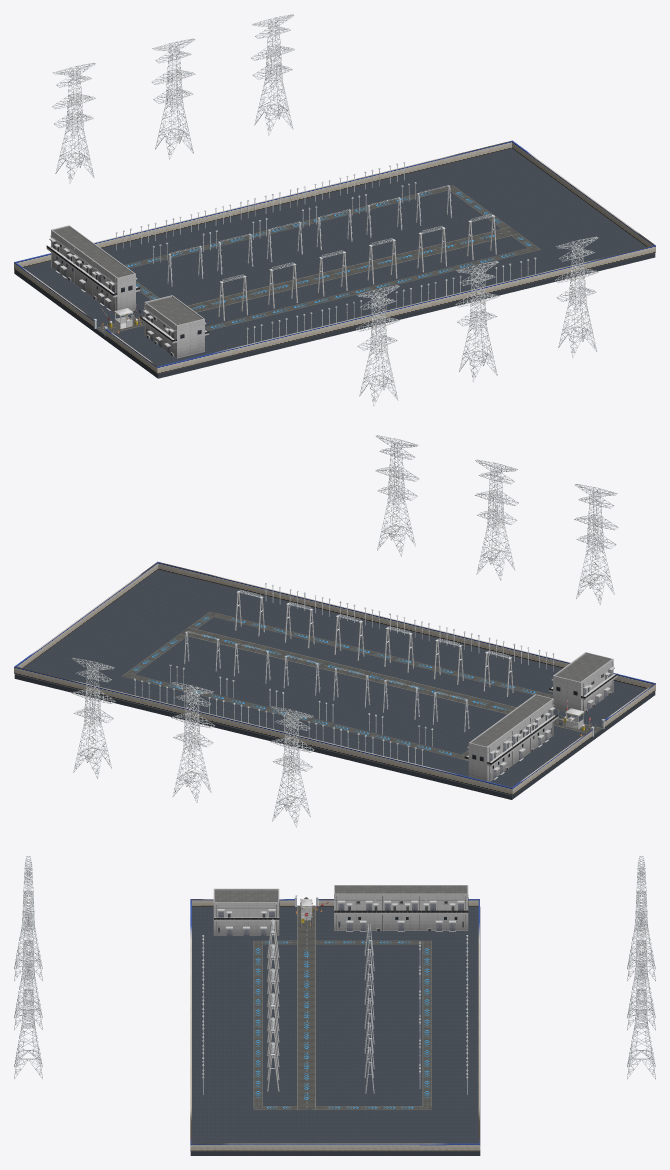
3 views of the same model, one above another, from view 1: azimuth 30°, elevation 25°; view 2: azimuth 150°, elevation 25°; view 3: azimuth 270°, elevation 25° (orthographic).
Parts seen in each view (by area): view 1: 地基围墙, 配电室, 主控室, Obj3d66-1145095-17092-371.002, Obj3d66-1145095-17092-371.001, Obj3d66-1145095-17092-371.004, Obj3d66-1145095-17092-371.005, Obj3d66-1145095-17092-371.003, Obj3d66-1145095-17092-371; view 2: 地基围墙, 配电室, 主控室, Obj3d66-1145095-17092-371.002, Obj3d66-1145095-17092-371.001, Obj3d66-1145095-17092-371.003, Obj3d66-1145095-17092-371.004, Obj3d66-1145095-17092-371, Obj3d66-1145095-17092-371.005; view 3: 地基围墙, 配电室, 主控室, Obj3d66-1145095-17092-371.005, Obj3d66-1145095-17092-371.004, Obj3d66-1145095-17092-371.002, Obj3d66-1145095-17092-371, Obj3d66-1145095-17092-371.003, Obj3d66-1145095-17092-371.001, 3#道路箭头.
Boxes of the visible parts, box(x1,y1,x2,y2) form: 地基围墙: box(14, 140, 655, 378); 配电室: box(46, 225, 139, 313); 主控室: box(140, 295, 208, 358); Obj3d66-1145095-17092-371.002: box(151, 38, 195, 159); Obj3d66-1145095-17092-371.001: box(356, 285, 399, 406); Obj3d66-1145095-17092-371.004: box(251, 14, 294, 135); Obj3d66-1145095-17092-371.005: box(555, 236, 598, 358); Obj3d66-1145095-17092-371.003: box(455, 261, 499, 382); Obj3d66-1145095-17092-371: box(52, 63, 95, 183); 地基围墙: box(14, 561, 655, 799); 配电室: box(464, 694, 557, 781); 主控室: box(549, 652, 617, 712); Obj3d66-1145095-17092-371.002: box(171, 682, 214, 802); Obj3d66-1145095-17092-371.001: box(574, 484, 618, 604); Obj3d66-1145095-17092-371.003: box(475, 459, 518, 580); Obj3d66-1145095-17092-371.004: box(71, 657, 115, 778); Obj3d66-1145095-17092-371: box(270, 706, 314, 827); Obj3d66-1145095-17092-371.005: box(375, 435, 419, 556); 地基围墙: box(190, 897, 480, 1155); 配电室: box(334, 885, 468, 931); 主控室: box(213, 888, 279, 935); Obj3d66-1145095-17092-371.005: box(14, 954, 42, 1079); Obj3d66-1145095-17092-371.004: box(627, 954, 655, 1079); Obj3d66-1145095-17092-371.002: box(627, 905, 655, 1030); Obj3d66-1145095-17092-371: box(627, 856, 655, 981); Obj3d66-1145095-17092-371.003: box(14, 905, 42, 1030); Obj3d66-1145095-17092-371.001: box(14, 856, 42, 981); 3#道路箭头: box(424, 948, 429, 1097).
Bounding box in the file's own units: 121 × 26.01 × 133.
51 materials, 32 textured.
